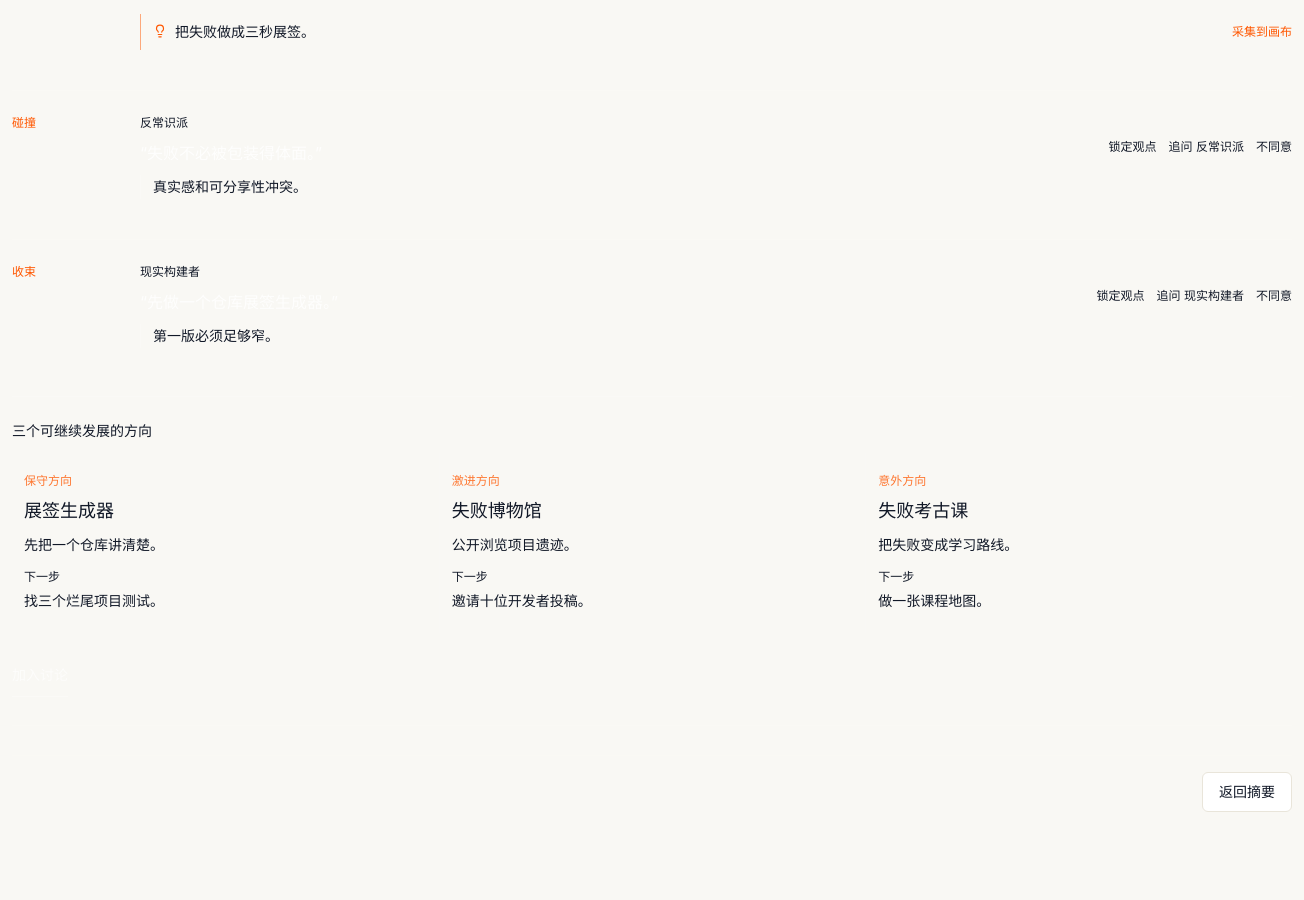
Test: idea discussion panel › selects a synthesis direction locally without starting another business action
(page scrolled)
Click the button "激进方向 失败博物馆 公开浏览项目遗迹。 下一步 邀请十位开发者投稿。": [476, 481] box left=439, top=454, right=865, bottom=634
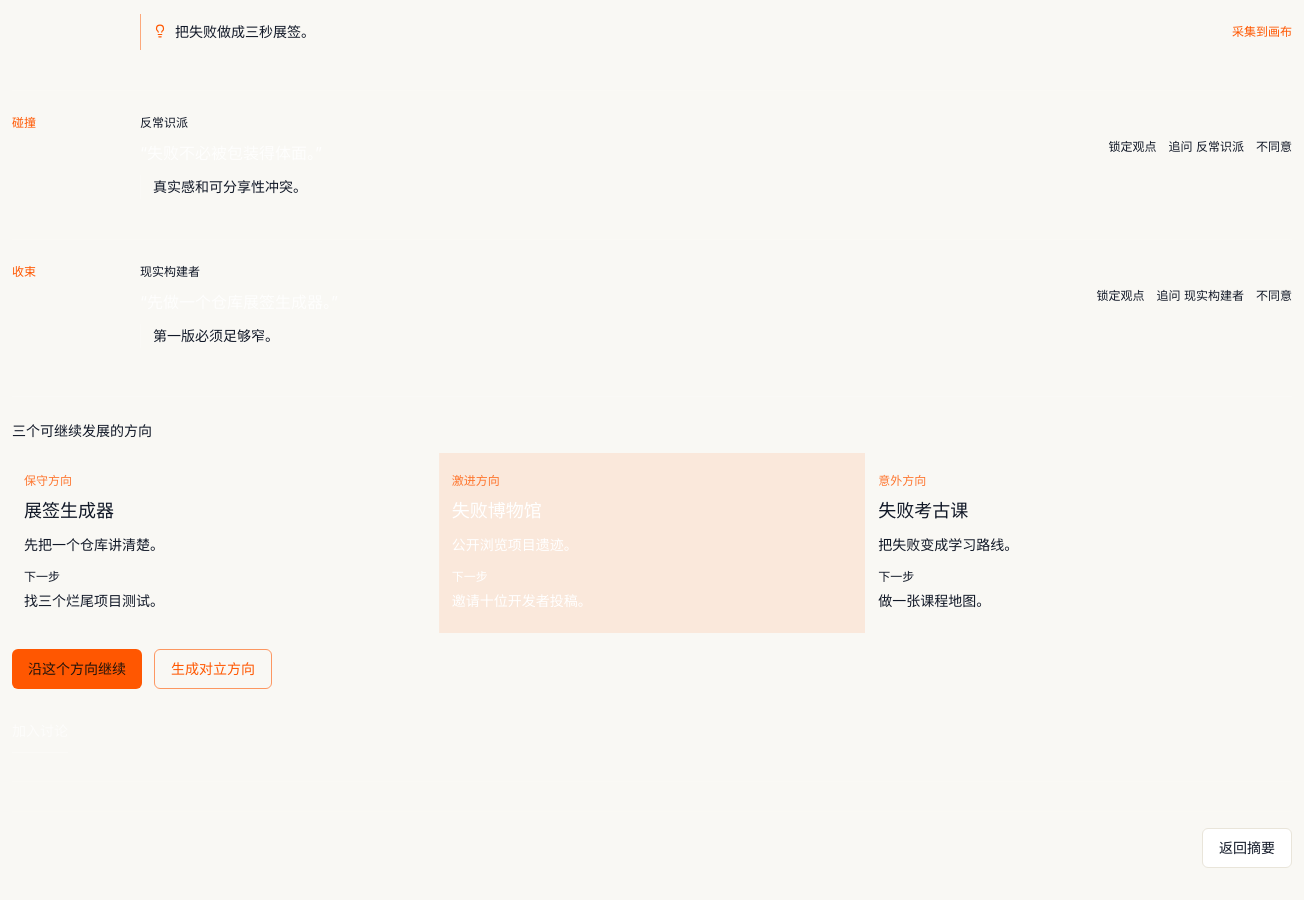
Check: the button "沿这个方向继续" is shown, box left=12, top=650, right=142, bottom=690
